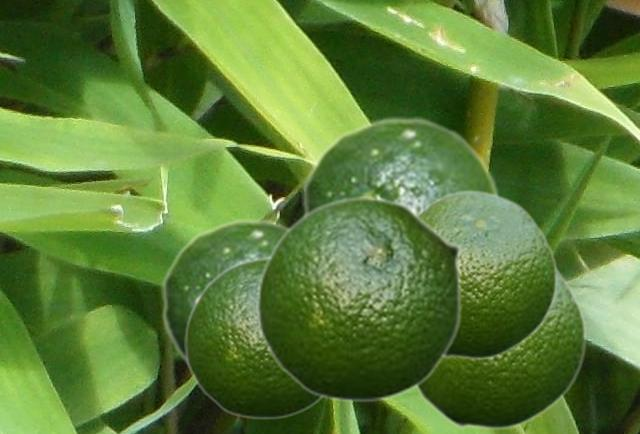calamansi: (256, 196, 462, 402), (413, 262, 586, 429), (418, 188, 557, 359), (184, 257, 323, 419), (161, 218, 290, 376), (301, 116, 499, 213)
